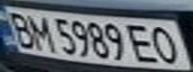5: (48, 15, 75, 55)
8: (84, 19, 109, 60)
9: (103, 20, 130, 62), (66, 17, 90, 57)
B: (0, 8, 39, 50)
E: (124, 21, 163, 64)
M: (21, 11, 57, 52)
O: (142, 22, 187, 65)
